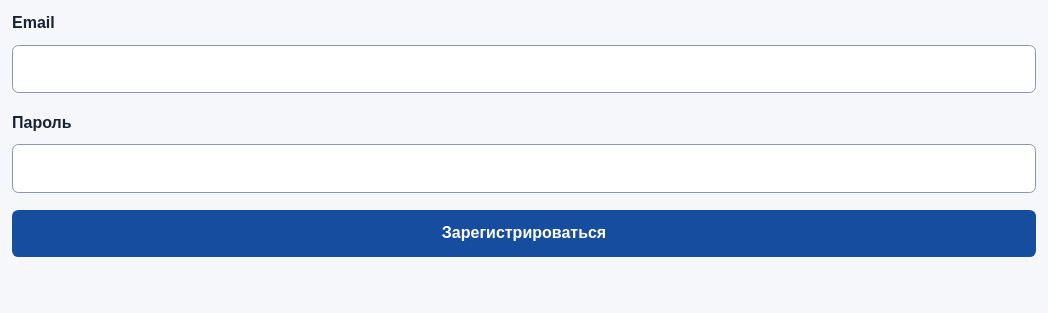
Test case: registration explains a temporary rate limit
Type "new@example.com" into the field labelled "Email" at [524, 69], box [12, 45, 1036, 93]
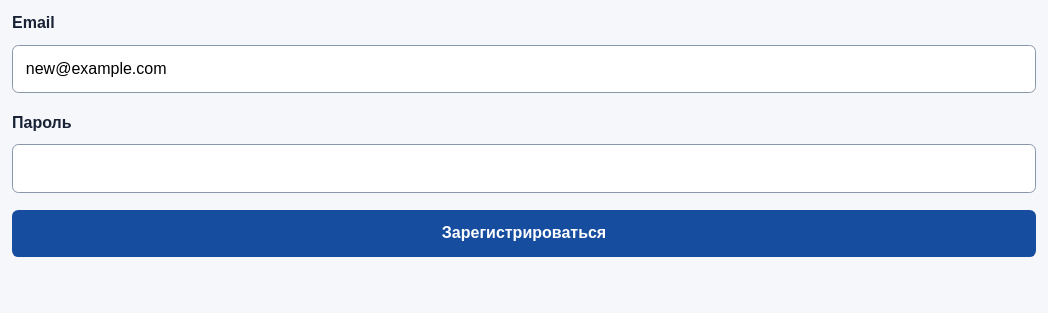
Type "password-123" into the password field labelled "Пароль" at [524, 168], box [12, 144, 1036, 193]
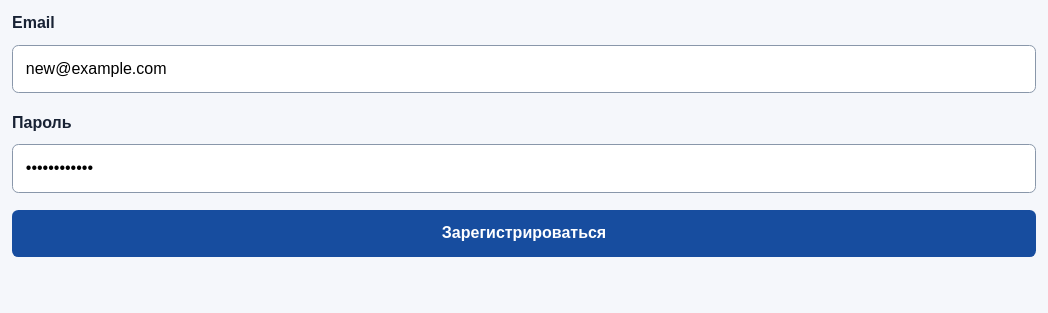
Click the button "Зарегистрироваться" at [524, 233], box [12, 210, 1036, 256]
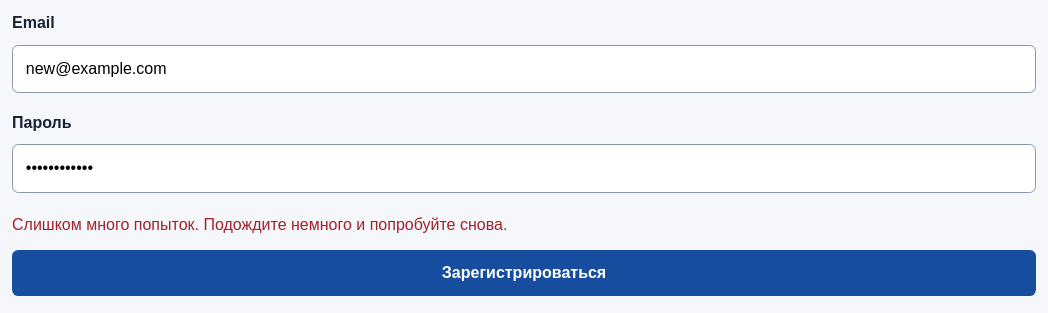
Result: the message shows "Слишком много попыток" at [12, 216, 507, 233]
